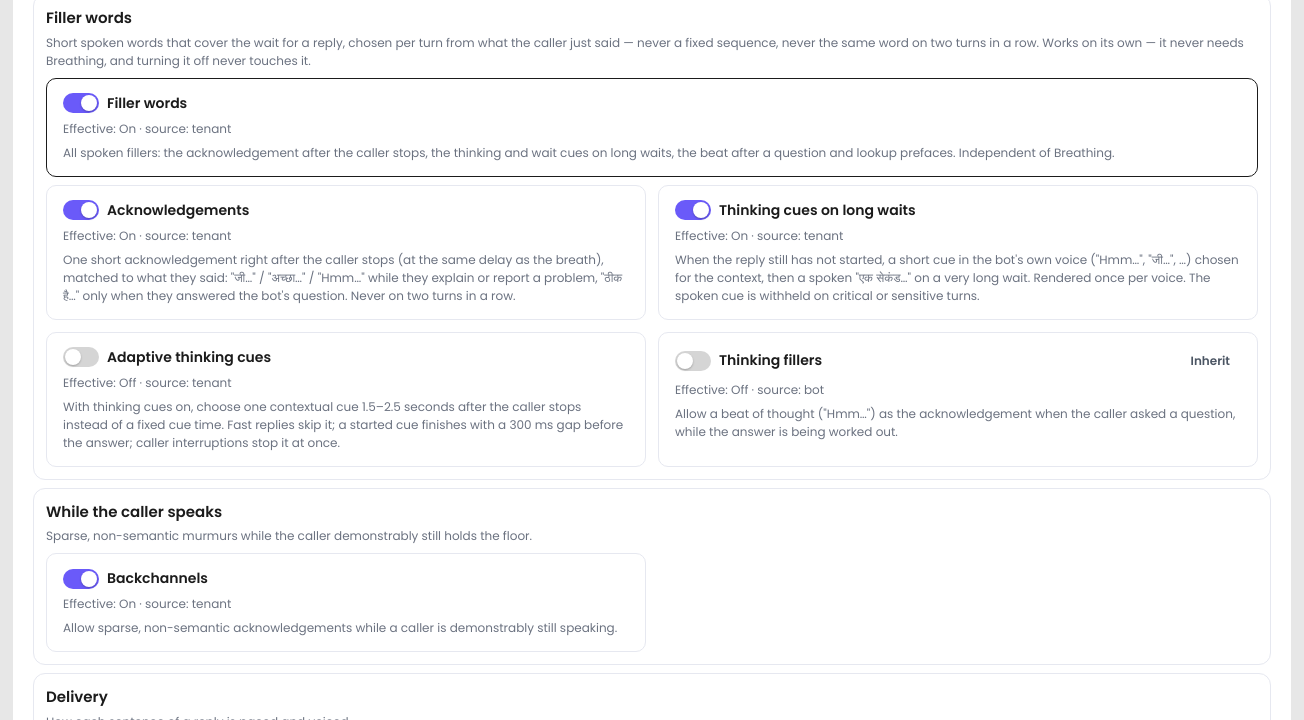
Test: NaturalConversationTab › failed saves retain edits and provider validation errors, then discard restores saved values
(page scrolled)
Click the switch named "Thinking fillers": (693, 360) [675,350,711,370]
(page scrolled)
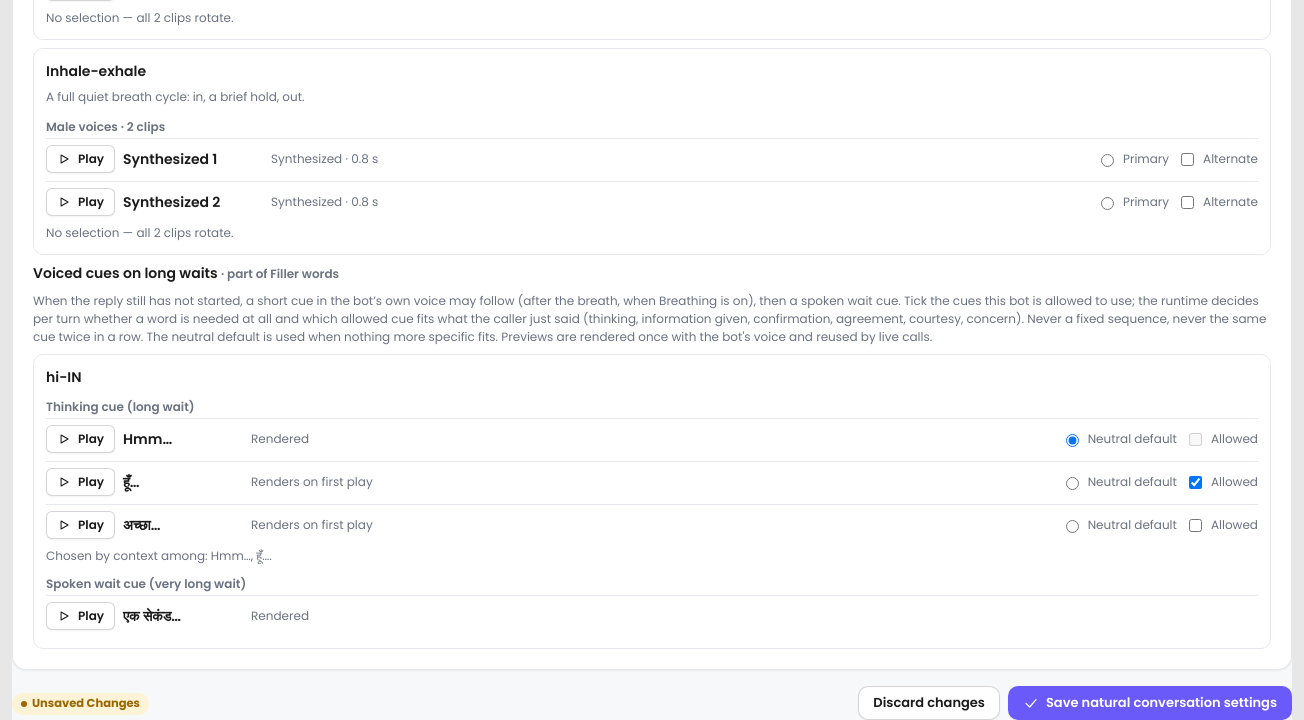
Click the button "Save natural conversation settings": (1150, 703) [1008,686,1292,719]
(page scrolled)
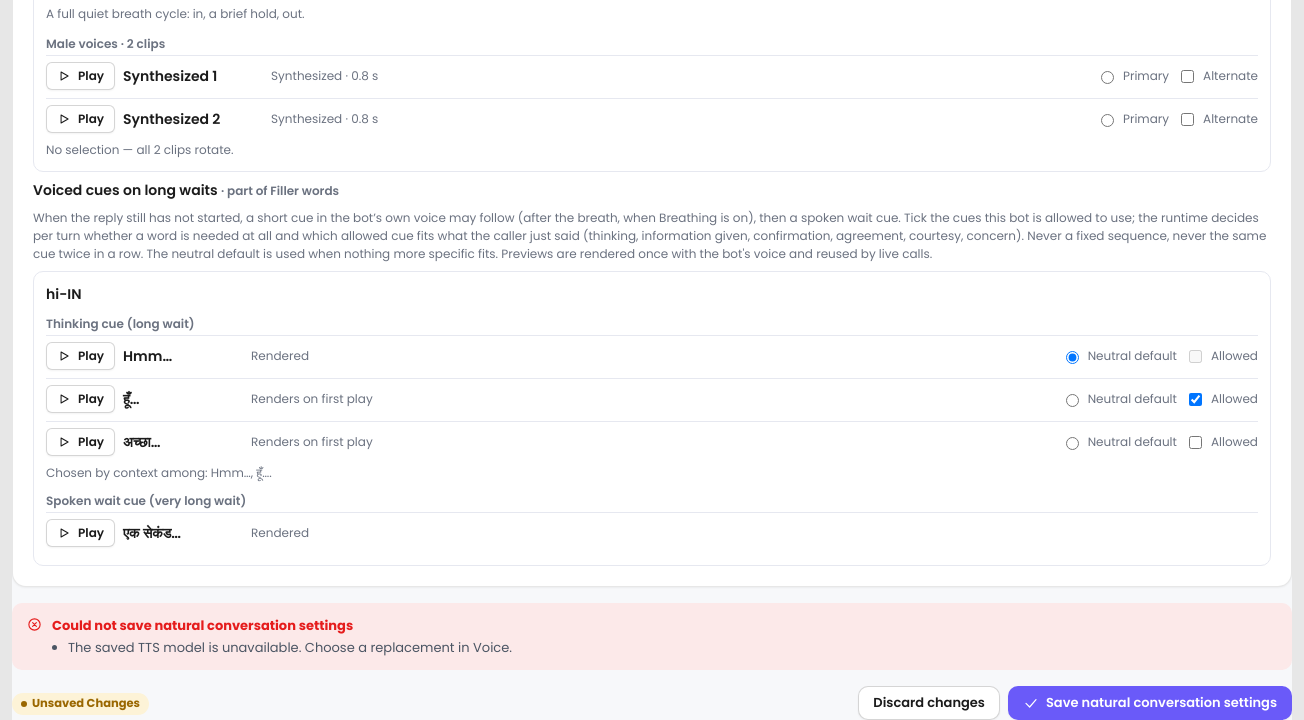
Expected: the text "Unsaved changes" is shown, [32,695,140,712]
Result: the button "Save natural conversation settings" is enabled at [1008,686,1292,719]
Result: the 1st message shows "The saved TTS model is unavailable" at [68,638,512,656]
Click the button "Discard changes": (929, 703) [858,686,1000,719]
(page scrolled)
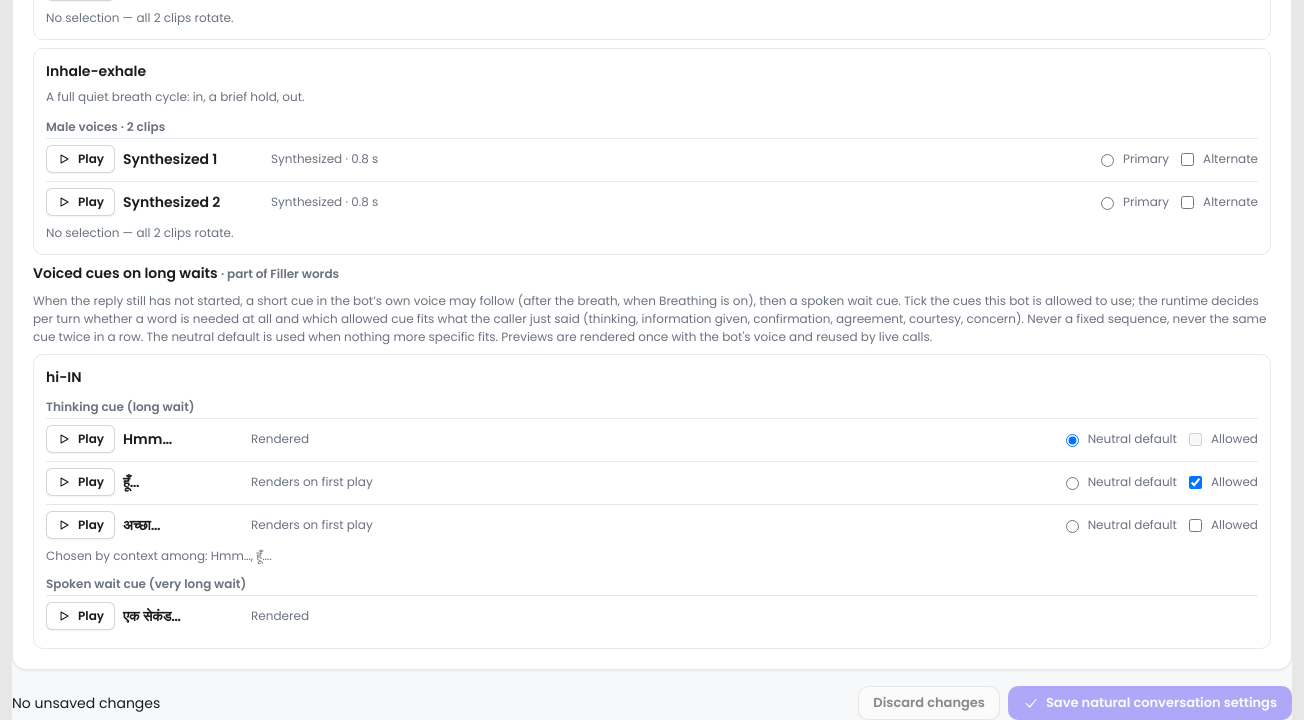
Result: the button "Save natural conversation settings" is disabled at [1008,686,1292,719]
